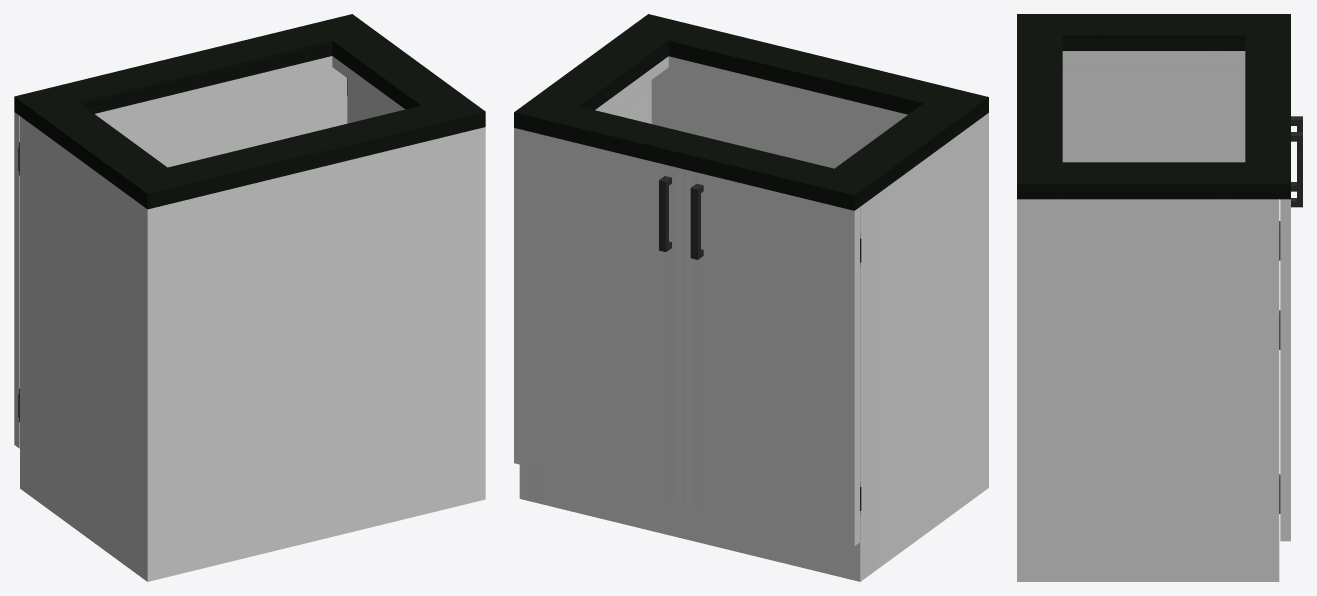
Rendered from CabinetE_Sink.glb.
3 renders of one model, left to right at view 1: azimuth 30°, elevation 25°; view 2: azimuth 150°, elevation 25°; view 3: azimuth 270°, elevation 25°, orthographic. The views are drawn at different scales.
Visible parts, largest first — view 1: CabinetE_Sink_model, CabinetE_SinkDoor02, CabinetE_SinkDoor01; view 2: CabinetE_Sink_model, CabinetE_SinkDoor01, CabinetE_SinkDoor02; view 3: CabinetE_Sink_model, CabinetE_SinkDoor02.
Boxes of the visible parts, <box> form: CabinetE_Sink_model: <box>14,14,485,581</box>; CabinetE_SinkDoor02: <box>188,67,347,162</box>; CabinetE_SinkDoor01: <box>14,102,188,448</box>; CabinetE_Sink_model: <box>514,14,988,581</box>; CabinetE_SinkDoor01: <box>684,169,861,546</box>; CabinetE_SinkDoor02: <box>514,128,684,504</box>; CabinetE_Sink_model: <box>1017,14,1290,581</box>; CabinetE_SinkDoor02: <box>1279,132,1302,541</box>.
Size of the model in its own units: 1.85 by 2.02 by 1.31.
1 material, 1 textured.
